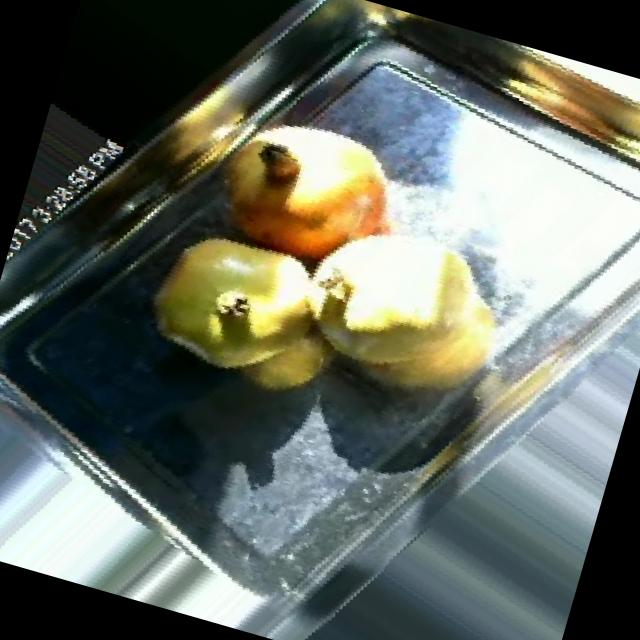fruit: (272, 185, 544, 432), (107, 182, 366, 420), (182, 79, 434, 308)
